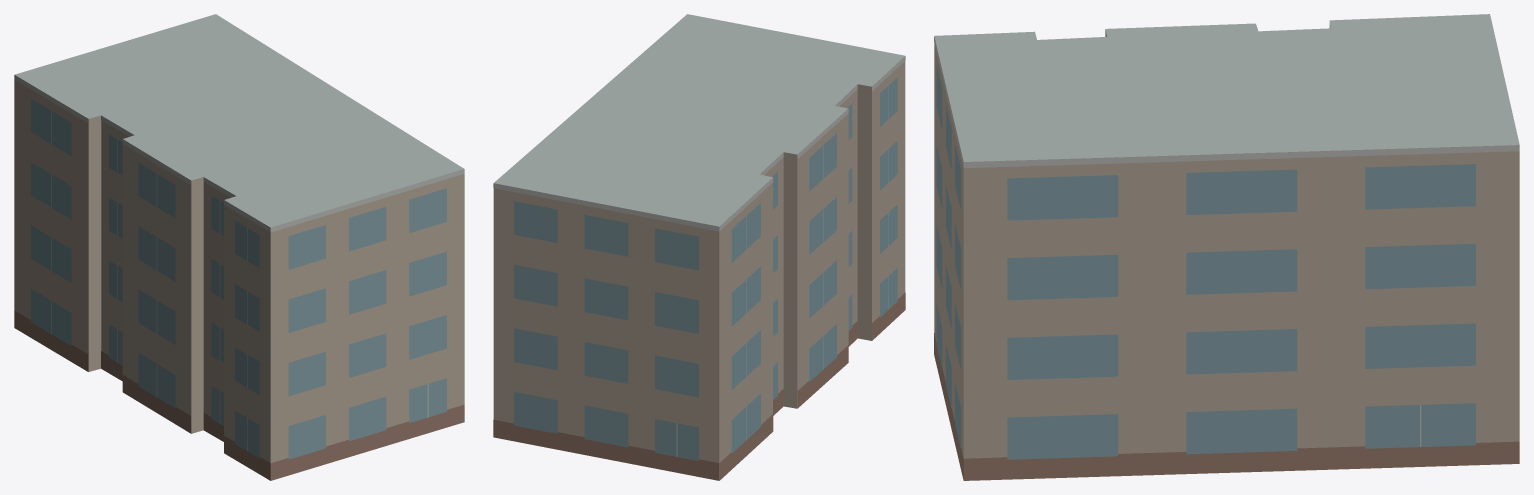
The model's file is survey-upis-32797683.glb.
The picture shows the model from 3 angles, left to right: view 1: azimuth 30°, elevation 25°; view 2: azimuth 150°, elevation 25°; view 3: azimuth 270°, elevation 25°; orthographic projection. The views are drawn at different scales.
Parts seen in each view (by area): view 1: survey-upis-32797683.tmp; view 2: survey-upis-32797683.tmp; view 3: survey-upis-32797683.tmp.
Boxes of the visible parts, bbox=[...] form: survey-upis-32797683.tmp: bbox=[14, 14, 464, 480]; survey-upis-32797683.tmp: bbox=[493, 14, 905, 480]; survey-upis-32797683.tmp: bbox=[934, 14, 1519, 480].
Size of the model in its own units: 12.66 by 12.7 by 21.15.
